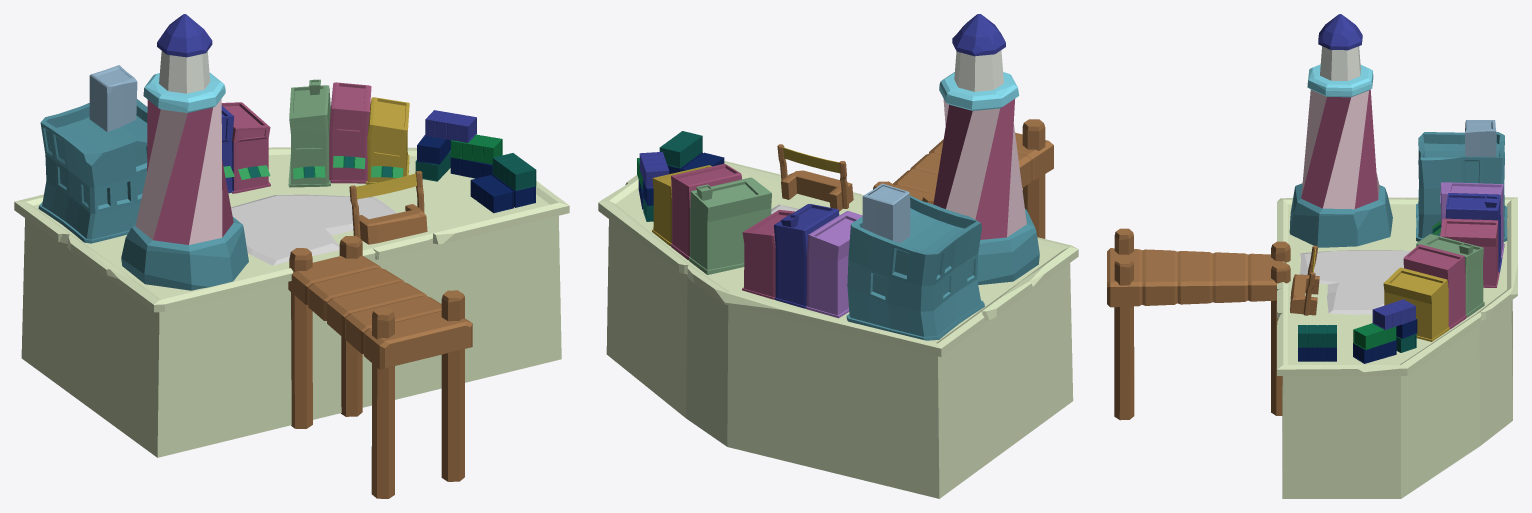
The model's file is Harbour.fbx.
The picture shows the model from 3 angles, left to right: view 1: azimuth 30°, elevation 25°; view 2: azimuth 150°, elevation 25°; view 3: azimuth 270°, elevation 25°; orthographic projection. The views are drawn at different scales.
Visible parts, largest first — view 1: Harbour, Dock, Lighthouse, Building Big, Buidling Grouped.001, Shipping Container, Buidling Grouped.002, Stall, Banner; view 2: Harbour, Lighthouse, Building Big, Buidling Grouped.002, Buidling Grouped.001, Dock, Shipping Container, Stall, Banner; view 3: Harbour, Lighthouse, Dock, Buidling Grouped.001, Building Big, Buidling Grouped.002, Shipping Container, Stall, Banner.
Part boxes in pixels (<box>): Harbour: <box>14,147,569,457</box>; Dock: <box>288,235,472,498</box>; Lighthouse: <box>121,14,248,290</box>; Building Big: <box>38,65,147,243</box>; Buidling Grouped.001: <box>288,79,409,187</box>; Shipping Container: <box>415,110,536,213</box>; Buidling Grouped.002: <box>147,102,270,193</box>; Stall: <box>359,204,427,244</box>; Banner: <box>349,171,424,238</box>; Harbour: <box>598,161,1078,498</box>; Lighthouse: <box>933,14,1039,284</box>; Building Big: <box>846,183,984,340</box>; Buidling Grouped.002: <box>742,204,862,318</box>; Buidling Grouped.001: <box>652,163,771,274</box>; Dock: <box>873,119,1053,238</box>; Shipping Container: <box>637,131,724,221</box>; Stall: <box>781,170,853,211</box>; Banner: <box>777,144,848,208</box>; Harbour: <box>1277,197,1517,498</box>; Lighthouse: <box>1289,14,1392,247</box>; Dock: <box>1107,228,1290,420</box>; Buidling Grouped.001: <box>1383,234,1484,341</box>; Building Big: <box>1416,120,1507,241</box>; Buidling Grouped.002: <box>1432,182,1504,287</box>; Shipping Container: <box>1298,299,1417,363</box>; Stall: <box>1290,274,1319,315</box>; Banner: <box>1303,245,1317,315</box>.
Size of the model in its own units: 4144 by 3866 by 4195.
